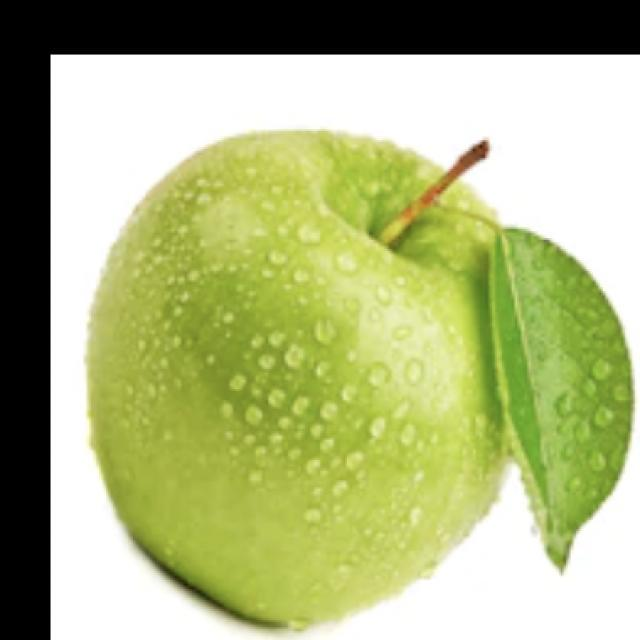Fresh Apple: (92, 123, 558, 634)
